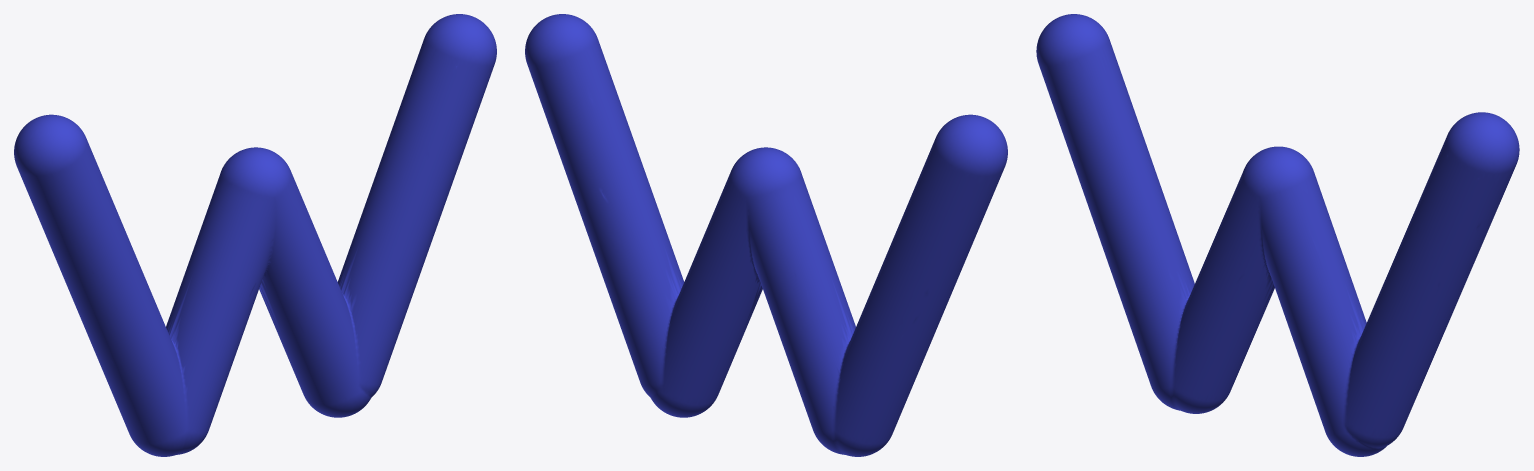
The model's file is letter-w.glb.
3 views of the same model, side by side, from view 1: azimuth 30°, elevation 25°; view 2: azimuth 150°, elevation 25°; view 3: azimuth 330°, elevation 25° (orthographic).
Visible parts, largest first — view 1: node_id3; view 2: node_id3; view 3: node_id3.
Part boxes in pixels (<box>): node_id3: <box>14,14,496,456</box>; node_id3: <box>525,14,1007,456</box>; node_id3: <box>1036,14,1519,456</box>.
Bounding box in the file's own units: 0.512 × 0.3799 × 0.0705.
Materials: 1 (1 with a texture image).
